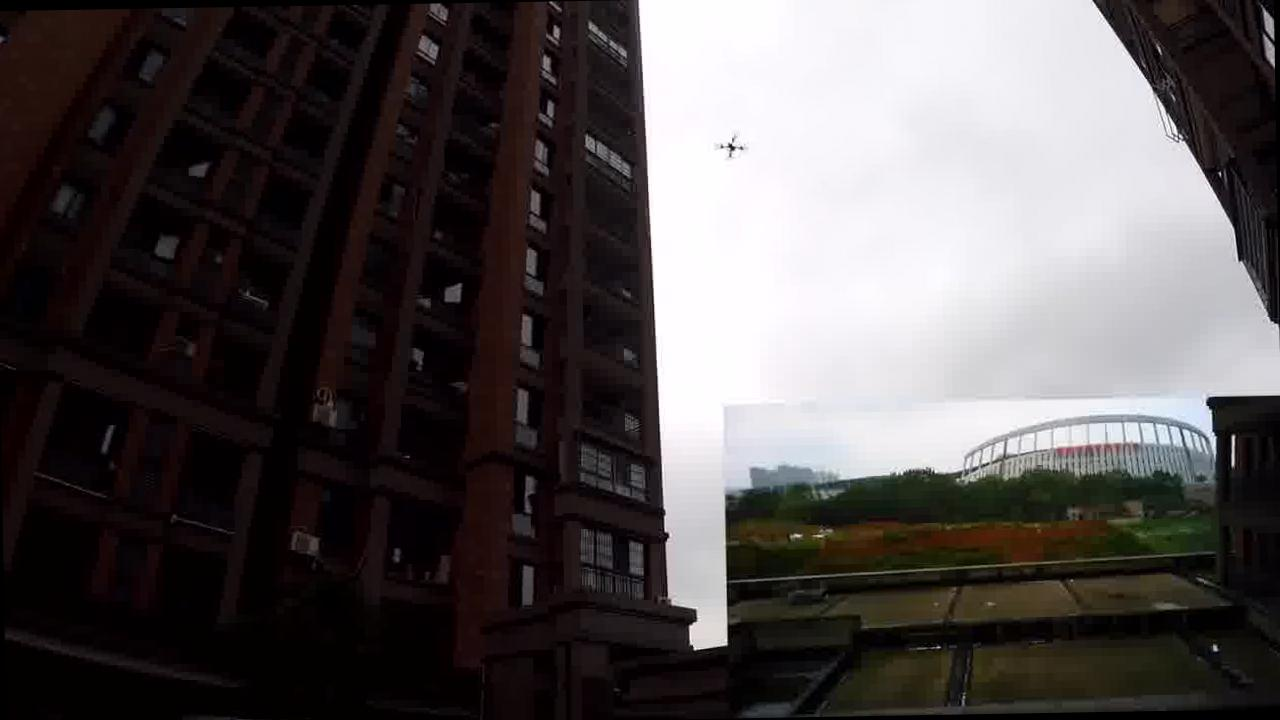drone: (712, 129, 748, 157)
